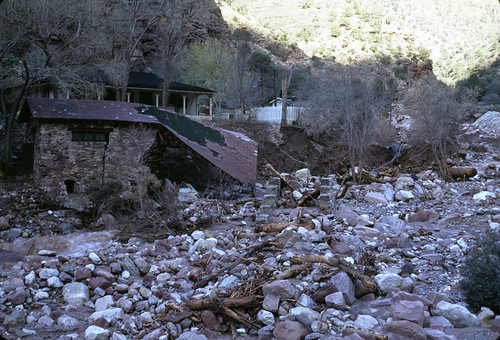building: (27, 108, 255, 203), (32, 73, 219, 116)
rocks: (1, 179, 500, 340)
vegetation: (1, 1, 500, 111)
